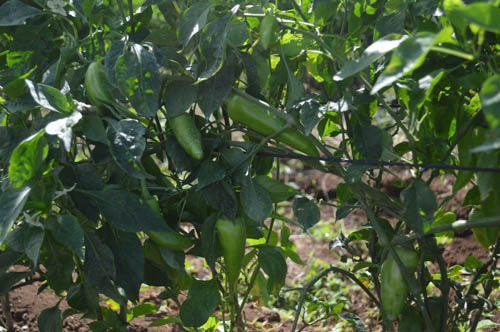ChiliPepper: (228, 98, 321, 156), (374, 248, 420, 319), (141, 200, 193, 249), (216, 218, 249, 293), (170, 113, 204, 158), (84, 62, 109, 105)
